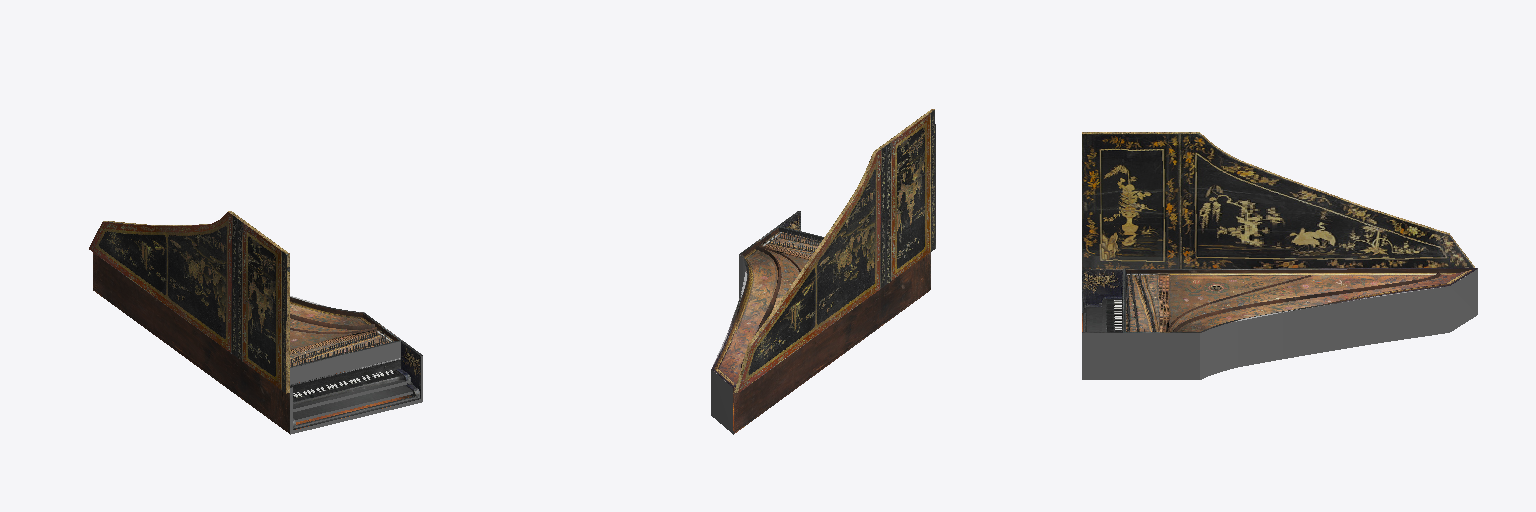
3 views of the same model, side by side, from view 1: azimuth 30°, elevation 25°; view 2: azimuth 150°, elevation 25°; view 3: azimuth 270°, elevation 25° (orthographic).
Visible parts, largest first — view 1: Clavecin; view 2: Clavecin; view 3: Clavecin.
Part boxes in pixels (bbox=[...]): Clavecin: bbox=[89, 211, 422, 434]; Clavecin: bbox=[711, 109, 935, 434]; Clavecin: bbox=[1082, 132, 1477, 379].
Size of the model in its own units: 7.84 by 9.9 by 19.62.
13 materials, 9 textured.